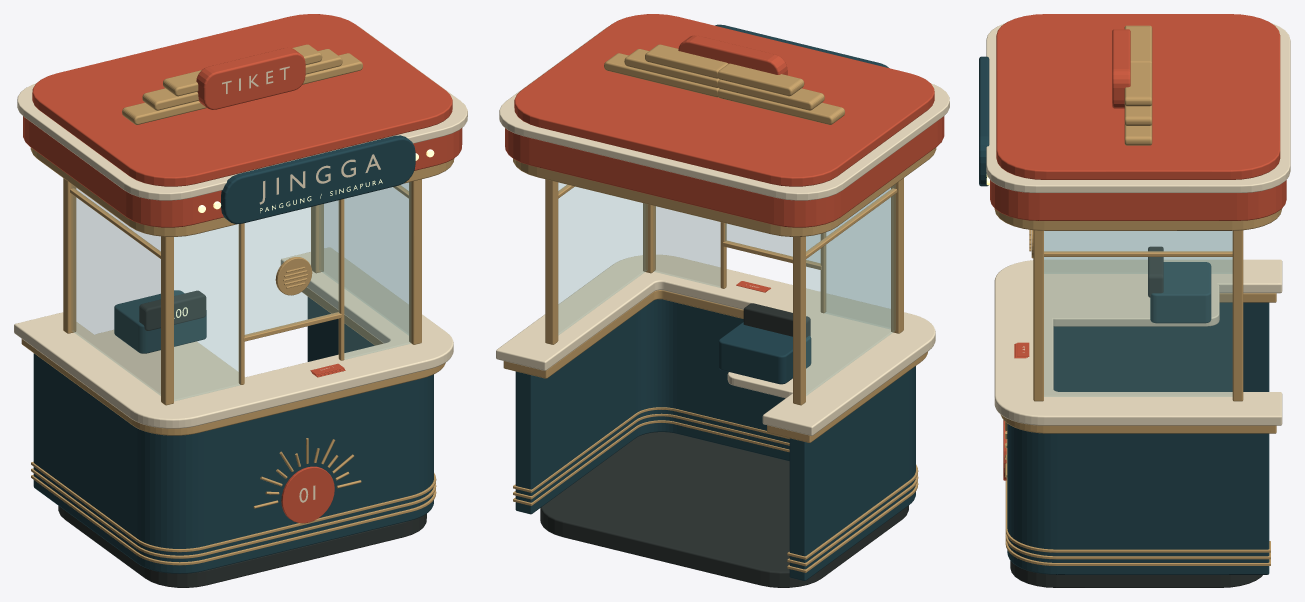
3 views of the same model, side by side, from view 1: azimuth 30°, elevation 25°; view 2: azimuth 150°, elevation 25°; view 3: azimuth 270°, elevation 25° (orthographic).
Visible parts, largest first — view 1: Panggung Jingga | Ticket wicket - Wicket, Panggung Jingga | Ticket wicket - Cabinetry, Panggung Jingga | Ticket wicket - Glazing, Panggung Jingga | Ticket wicket - Graphics, Panggung Jingga | Ticket wicket - Fenestration; view 2: Panggung Jingga | Ticket wicket - Cabinetry, Panggung Jingga | Ticket wicket - Wicket, Panggung Jingga | Ticket wicket - Glazing, Panggung Jingga | Ticket wicket - Graphics, Panggung Jingga | Ticket wicket - Fenestration; view 3: Panggung Jingga | Ticket wicket - Wicket, Panggung Jingga | Ticket wicket - Cabinetry, Panggung Jingga | Ticket wicket - Glazing, Panggung Jingga | Ticket wicket - Graphics, Panggung Jingga | Ticket wicket - Fenestration.
Boxes of the visible parts, left/top/right/bottom form: Panggung Jingga | Ticket wicket - Wicket: left=14, top=247, right=453, bottom=573; Panggung Jingga | Ticket wicket - Cabinetry: left=17, top=14, right=467, bottom=587; Panggung Jingga | Ticket wicket - Glazing: left=72, top=182, right=410, bottom=400; Panggung Jingga | Ticket wicket - Graphics: left=122, top=44, right=415, bottom=523; Panggung Jingga | Ticket wicket - Fenestration: left=63, top=178, right=421, bottom=405; Panggung Jingga | Ticket wicket - Cabinetry: left=499, top=14, right=949, bottom=587; Panggung Jingga | Ticket wicket - Wicket: left=496, top=254, right=935, bottom=580; Panggung Jingga | Ticket wicket - Glazing: left=558, top=183, right=895, bottom=395; Panggung Jingga | Ticket wicket - Graphics: left=604, top=24, right=889, bottom=337; Panggung Jingga | Ticket wicket - Fenestration: left=545, top=178, right=903, bottom=405; Panggung Jingga | Ticket wicket - Wicket: left=994, top=259, right=1282, bottom=574; Panggung Jingga | Ticket wicket - Cabinetry: left=986, top=14, right=1290, bottom=587; Panggung Jingga | Ticket wicket - Glazing: left=1044, top=231, right=1232, bottom=396; Panggung Jingga | Ticket wicket - Graphics: left=979, top=25, right=1163, bottom=480; Panggung Jingga | Ticket wicket - Fenestration: left=1029, top=229, right=1243, bottom=401.
Size of the model in its own units: 2.15 by 2.82 by 1.69.
